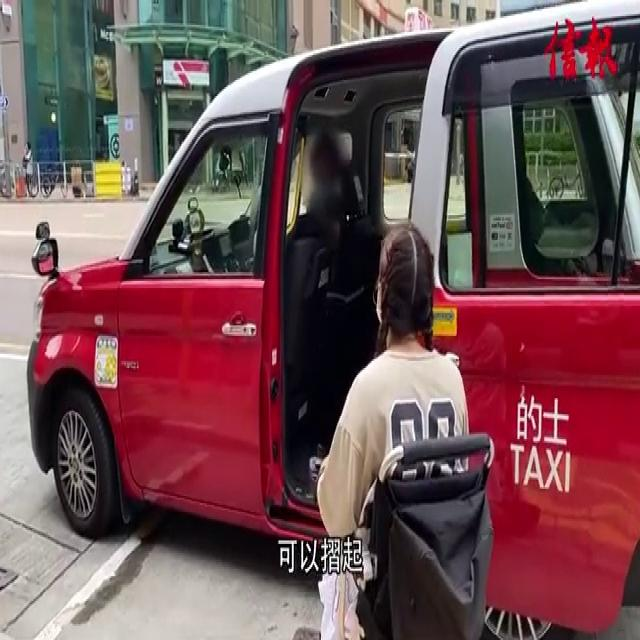wheelchairs: (303, 414, 503, 640)
